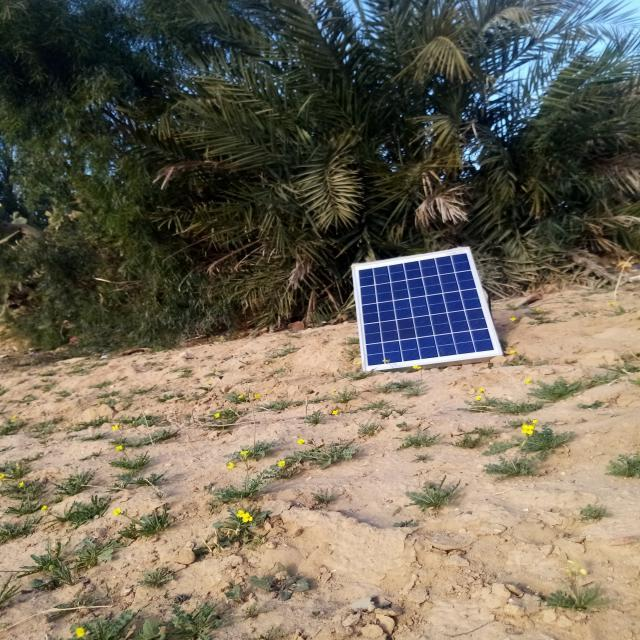no faulty: (354, 247, 503, 370)
